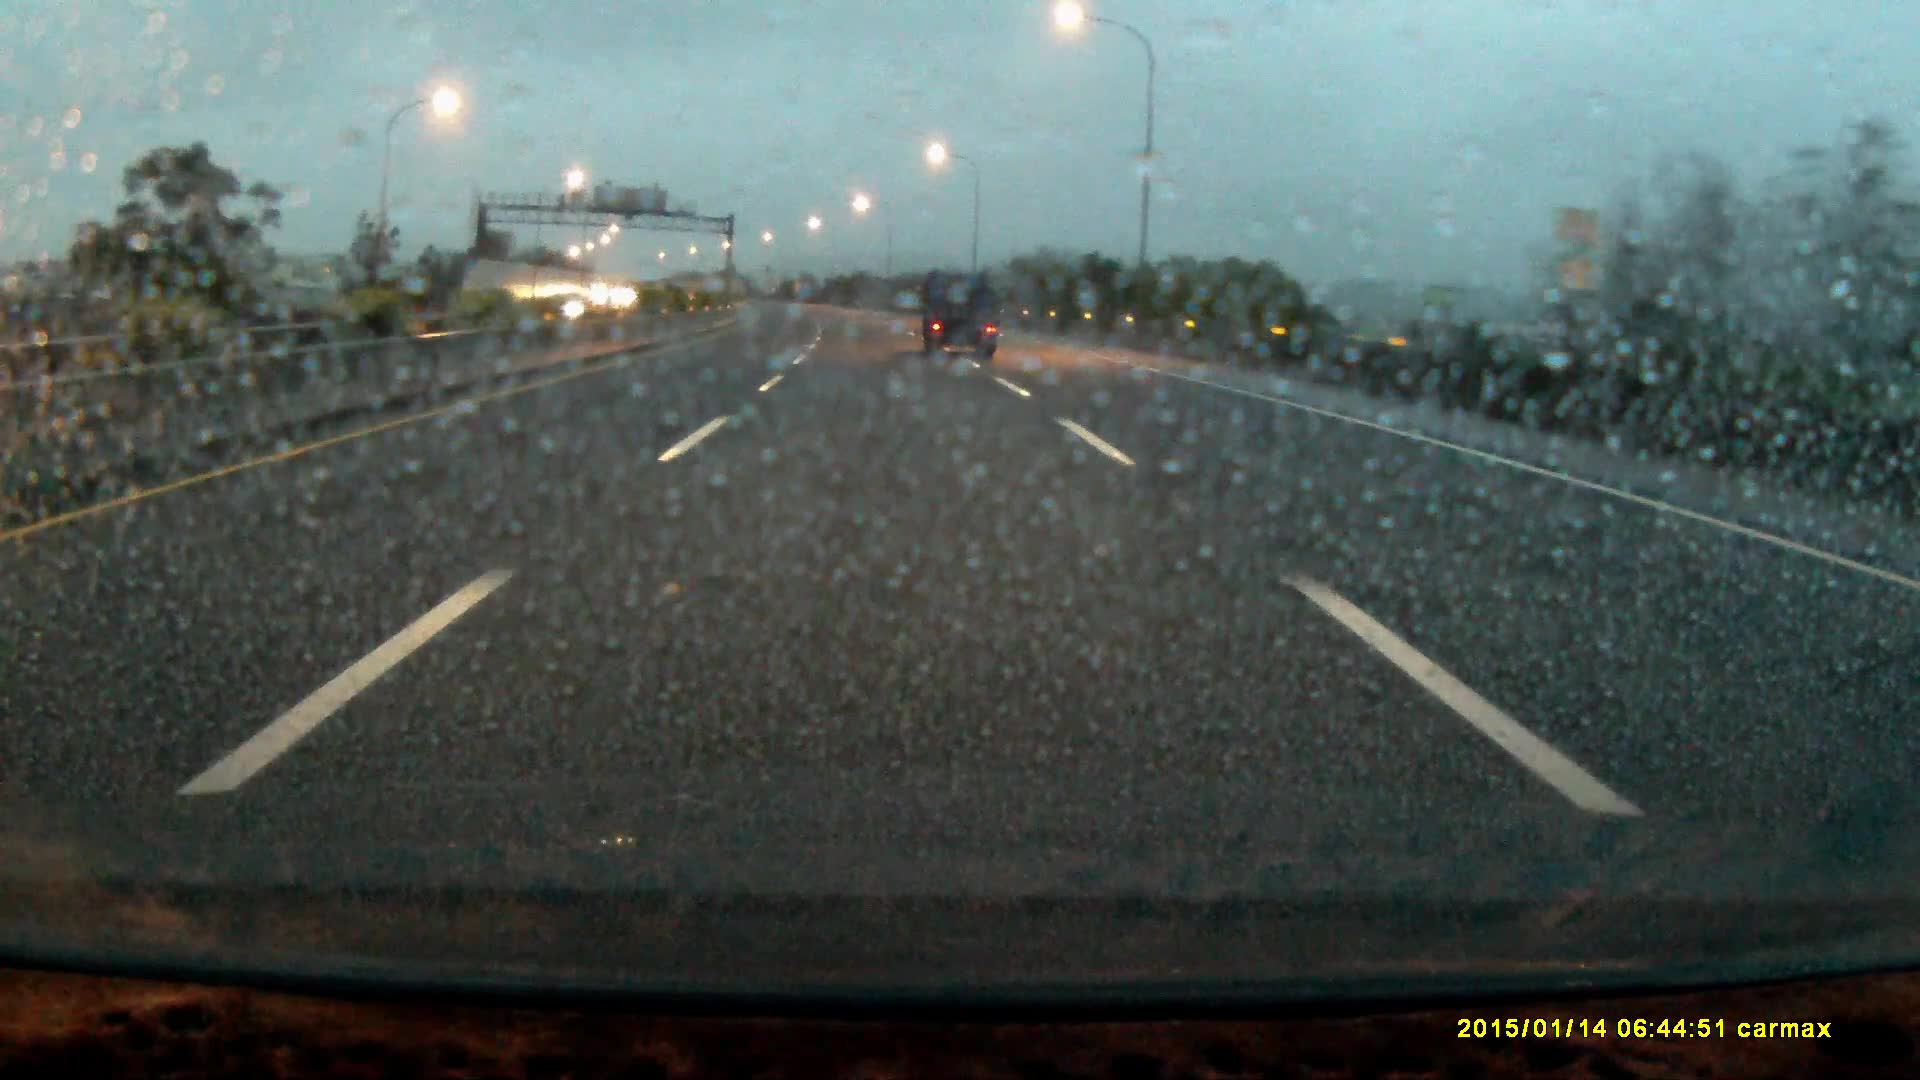vehicle: (920, 272, 1004, 357)
